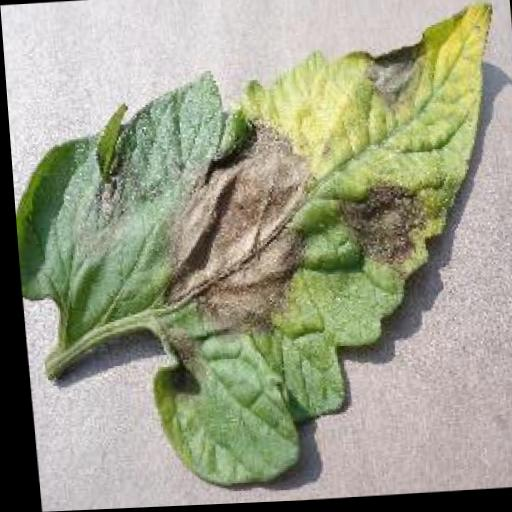Late Blight: (1, 2, 512, 499)
